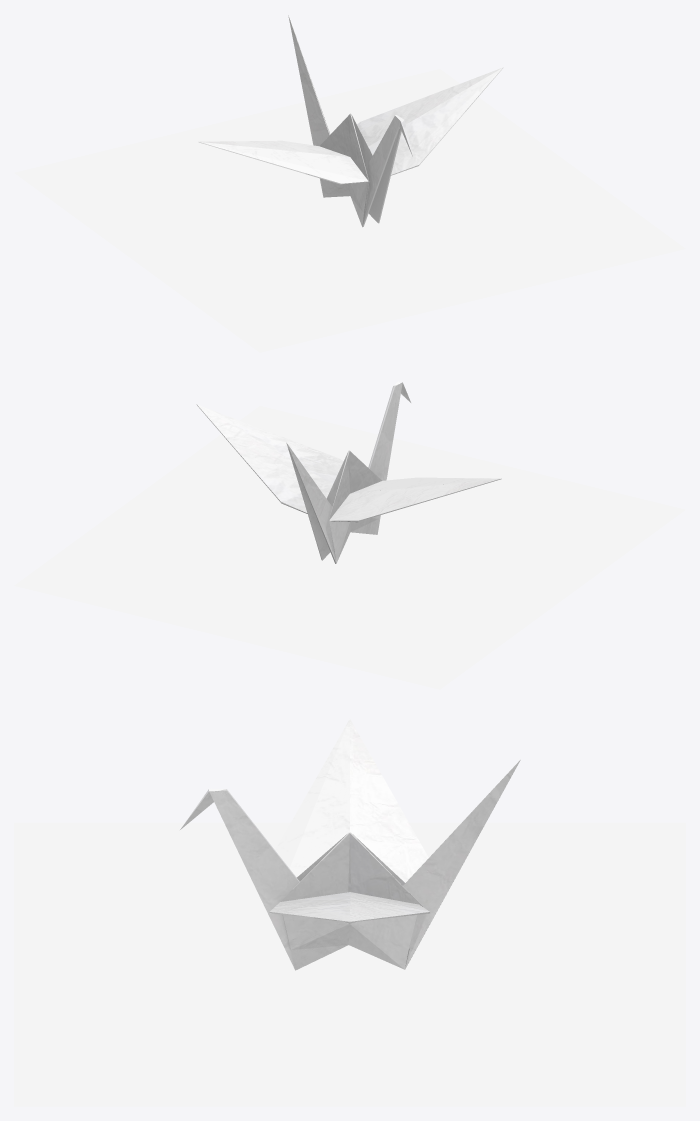
The model's file is 3d_origami_crane.glb.
3 views of the same model, one above another, from view 1: azimuth 30°, elevation 25°; view 2: azimuth 150°, elevation 25°; view 3: azimuth 270°, elevation 25° (orthographic). The views are drawn at different scales.
Parts seen in each view (by area): view 1: Object_4, Object_3; view 2: Object_4, Object_3; view 3: Object_4, Object_3.
Boxes of the visible parts, box(x1,y1,x2,y2) form: Object_4: box(14, 69, 685, 352); Object_3: box(198, 14, 503, 227); Object_4: box(14, 406, 685, 689); Object_3: box(196, 381, 501, 563); Object_4: box(14, 822, 685, 1106); Object_3: box(180, 719, 520, 970).
Bounding box in the file's own units: 4.51 × 1.53 × 4.51.
2 materials, 2 textured.
